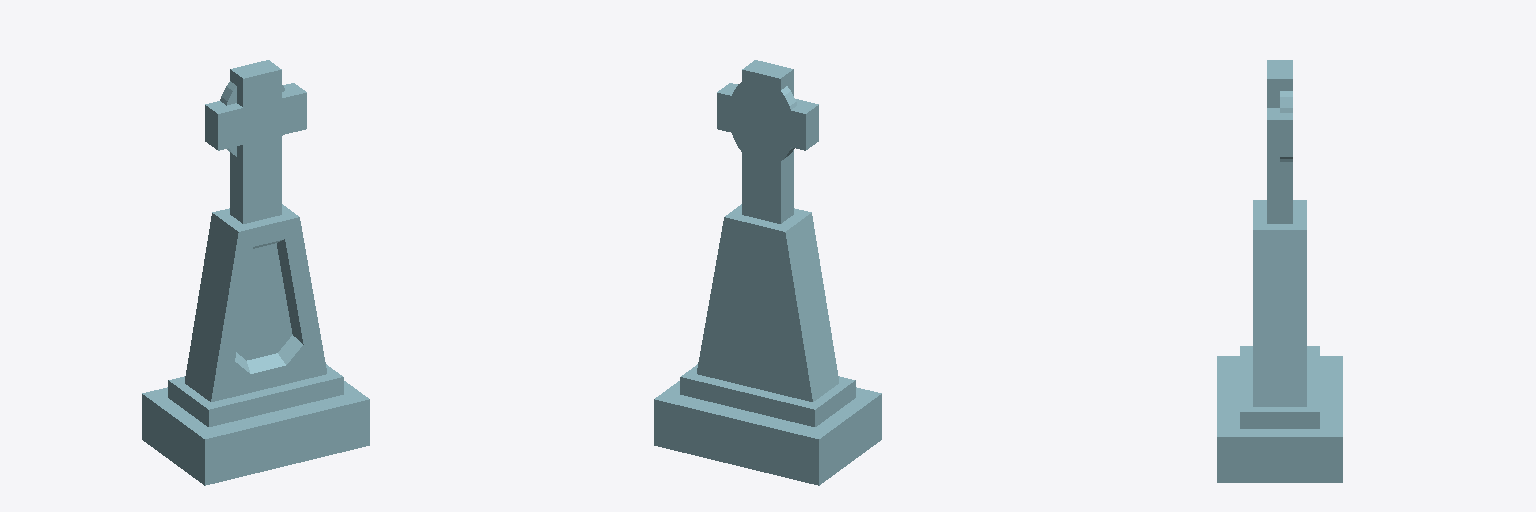
The model's file is gravestoneCross.obj.
3 views of the same model, side by side, from view 1: azimuth 30°, elevation 25°; view 2: azimuth 150°, elevation 25°; view 3: azimuth 270°, elevation 25° (orthographic).
Parts seen in each view (by area): view 1: gravestoneCross; view 2: gravestoneCross; view 3: gravestoneCross.
Part boxes in pixels (x1,y1,x2,y2): gravestoneCross: (142, 60, 369, 485); gravestoneCross: (654, 60, 881, 485); gravestoneCross: (1217, 60, 1342, 482).
Size of the model in its own units: 0.4415 by 0.9543 by 0.2913.